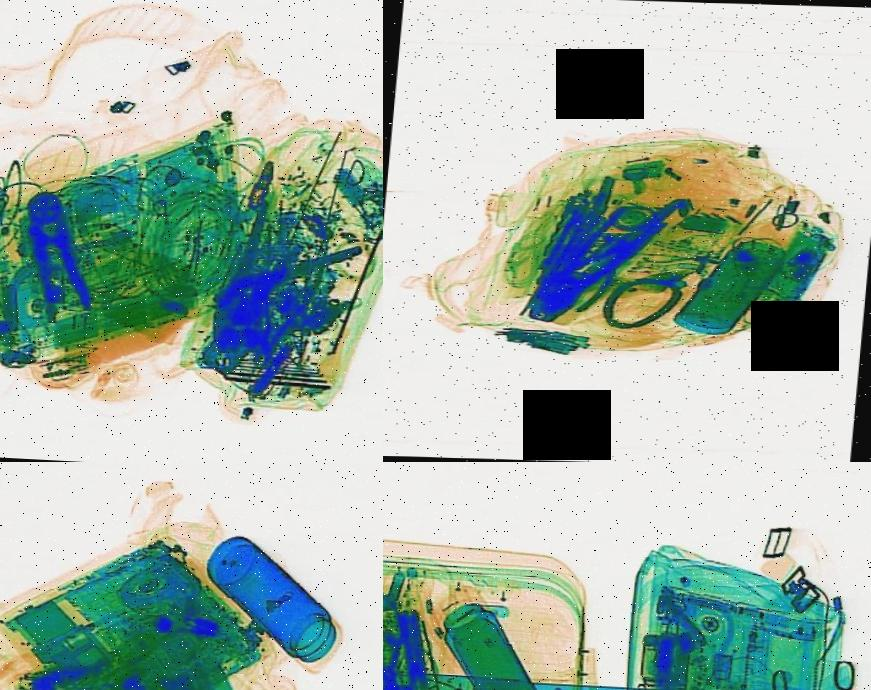Pliers: (500, 154, 690, 342), (9, 184, 96, 316), (542, 218, 647, 316), (383, 603, 427, 690)
